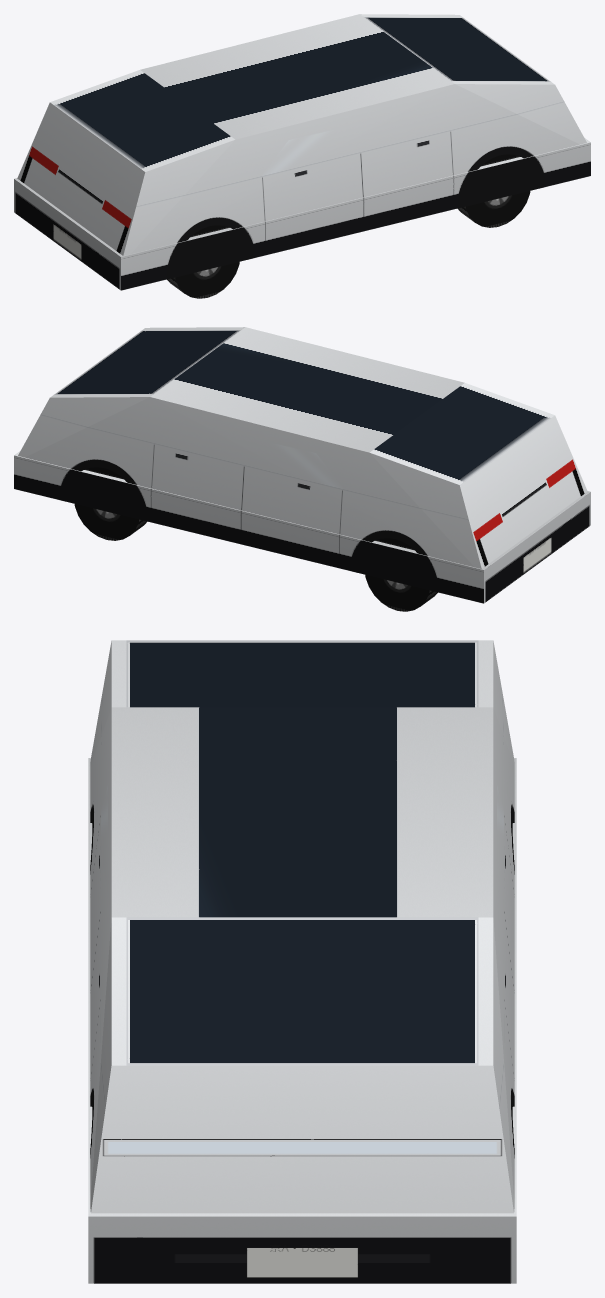
Rendered from tesla_model3.glb.
The picture shows the model from 3 angles, top to bottom: view 1: azimuth 30°, elevation 25°; view 2: azimuth 150°, elevation 25°; view 3: azimuth 270°, elevation 25°; orthographic projection. The views are drawn at different scales.
Parts seen in each view (by area): view 1: tesla_model3; view 2: tesla_model3; view 3: tesla_model3.
Part boxes in pixels (x1,y1,x2,y2): tesla_model3: (14, 14, 590, 298); tesla_model3: (14, 327, 590, 611); tesla_model3: (88, 640, 516, 1283).
Bounding box in the file's own units: 4.69 × 1.44 × 1.85.
Materials: 5 (5 with a texture image).
